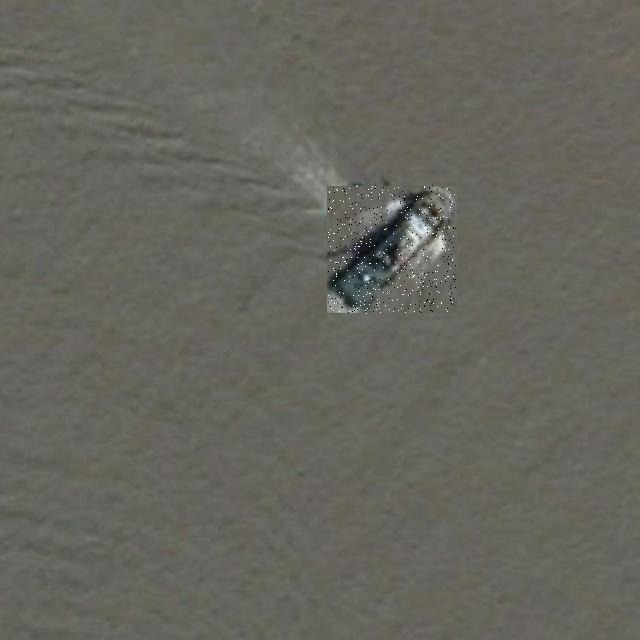boat: (328, 185, 456, 314)
